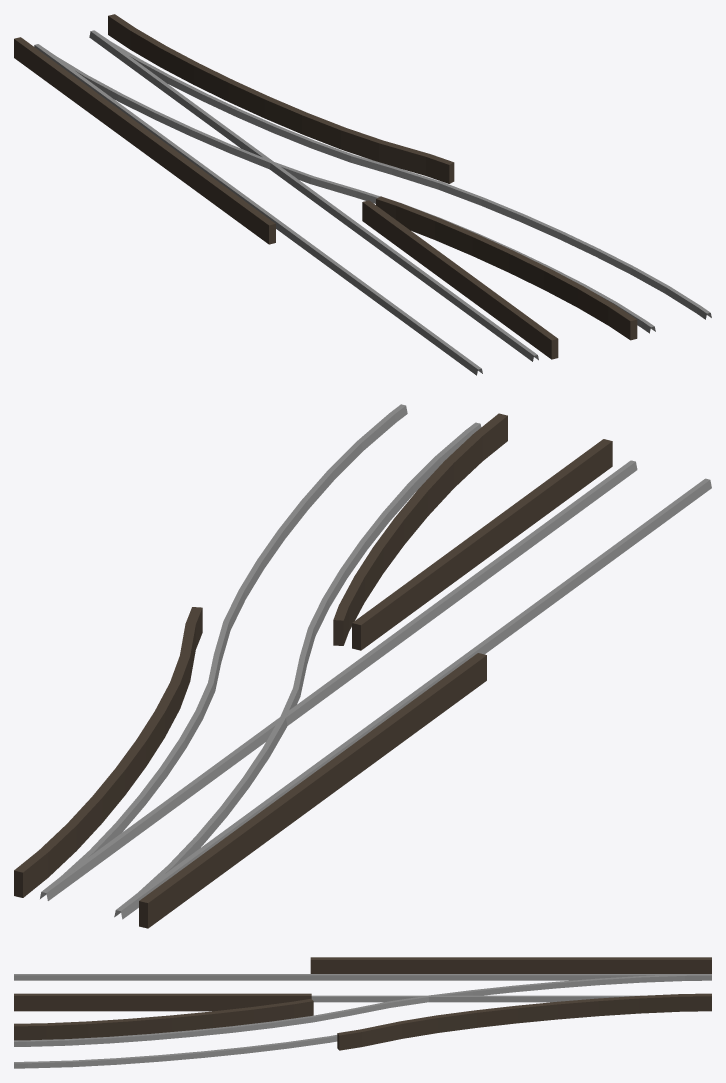
File: SW_ENV_Track_SingleToDouble_20m_Collision.fbx
The picture shows the model from 3 angles, top to bottom: view 1: azimuth 30°, elevation 25°; view 2: azimuth 150°, elevation 25°; view 3: azimuth 270°, elevation 25°; orthographic projection. The views are drawn at different scales.
Parts seen in each view (by area): view 1: SW_ENV_Track_SingleToDouble_20m_Collision; view 2: SW_ENV_Track_SingleToDouble_20m_Collision; view 3: SW_ENV_Track_SingleToDouble_20m_Collision.
Boxes of the visible parts, bbox=[...] form: SW_ENV_Track_SingleToDouble_20m_Collision: bbox=[14, 14, 711, 375]; SW_ENV_Track_SingleToDouble_20m_Collision: bbox=[14, 404, 711, 928]; SW_ENV_Track_SingleToDouble_20m_Collision: bbox=[14, 957, 711, 1068].
Size of the model in its own units: 662 by 47.71 by 2000.
